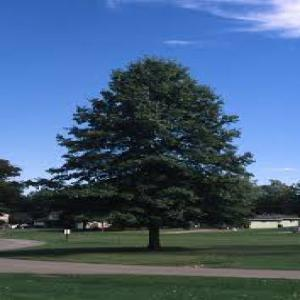Tree: (48, 55, 260, 248)
